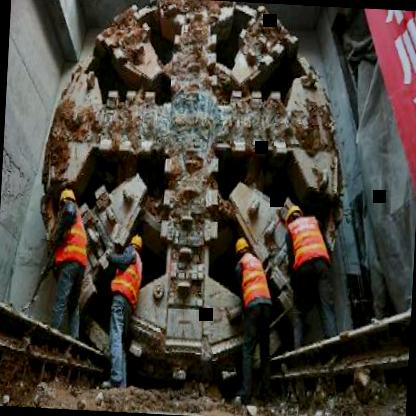helmet: (57, 183, 79, 214), (284, 202, 304, 230), (232, 234, 250, 261), (127, 231, 146, 255)
